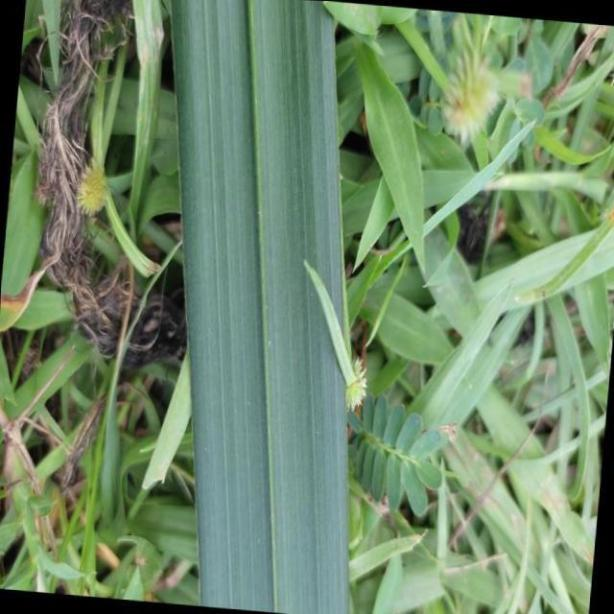Healthy: (171, 0, 352, 614)
